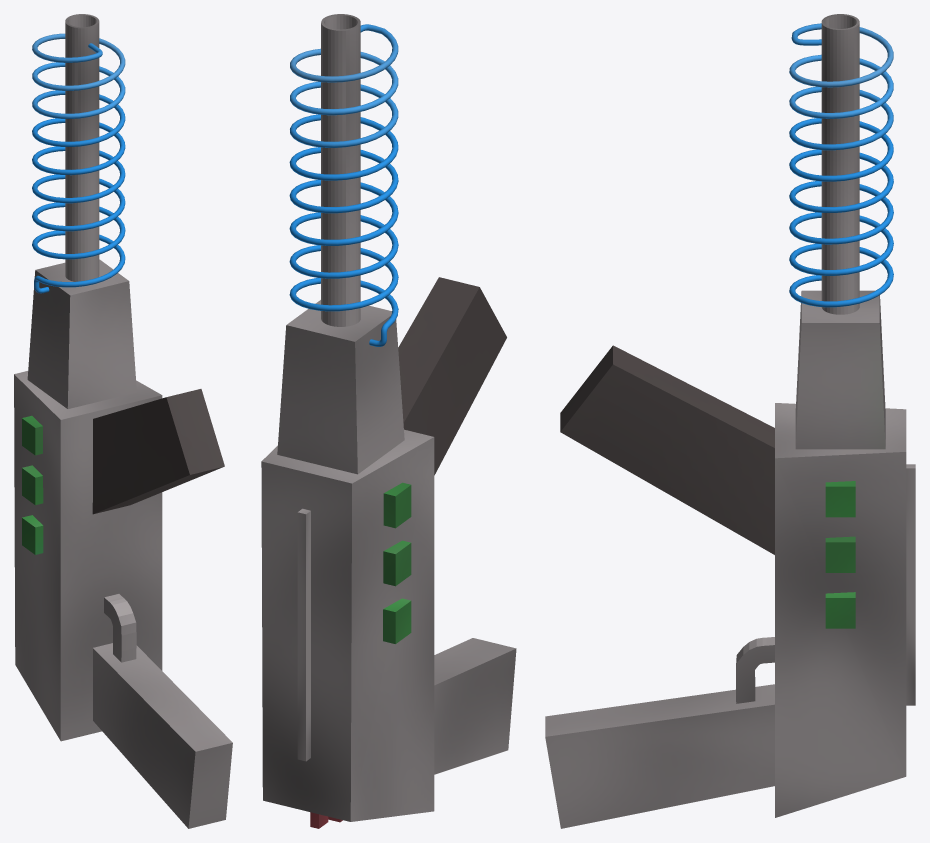
The model's file is raygun.obj.
The picture shows the model from 3 angles, left to right: view 1: azimuth 30°, elevation 25°; view 2: azimuth 150°, elevation 25°; view 3: azimuth 270°, elevation 25°; orthographic projection. The views are drawn at different scales.
Parts seen in each view (by area): view 1: Cube.004; view 2: Cube.004; view 3: Cube.004.
Part boxes in pixels (x1,y1,x2,y2): Cube.004: [14, 14, 232, 828]; Cube.004: [261, 14, 516, 828]; Cube.004: [545, 14, 915, 828].
Bounding box in the file's own units: 0.3133 × 1.98 × 0.8367.
1 material, 1 textured.
